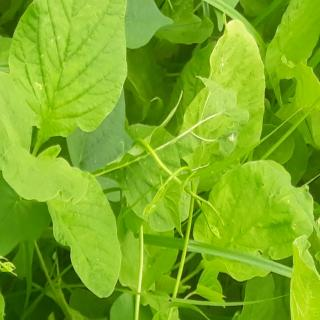virus_keriting: (208, 160, 319, 284)
